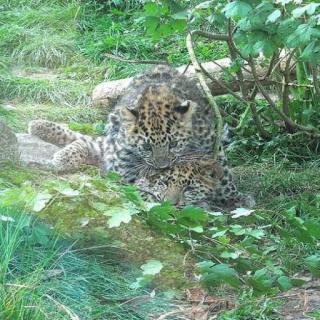Leopard: (58, 69, 235, 227)
